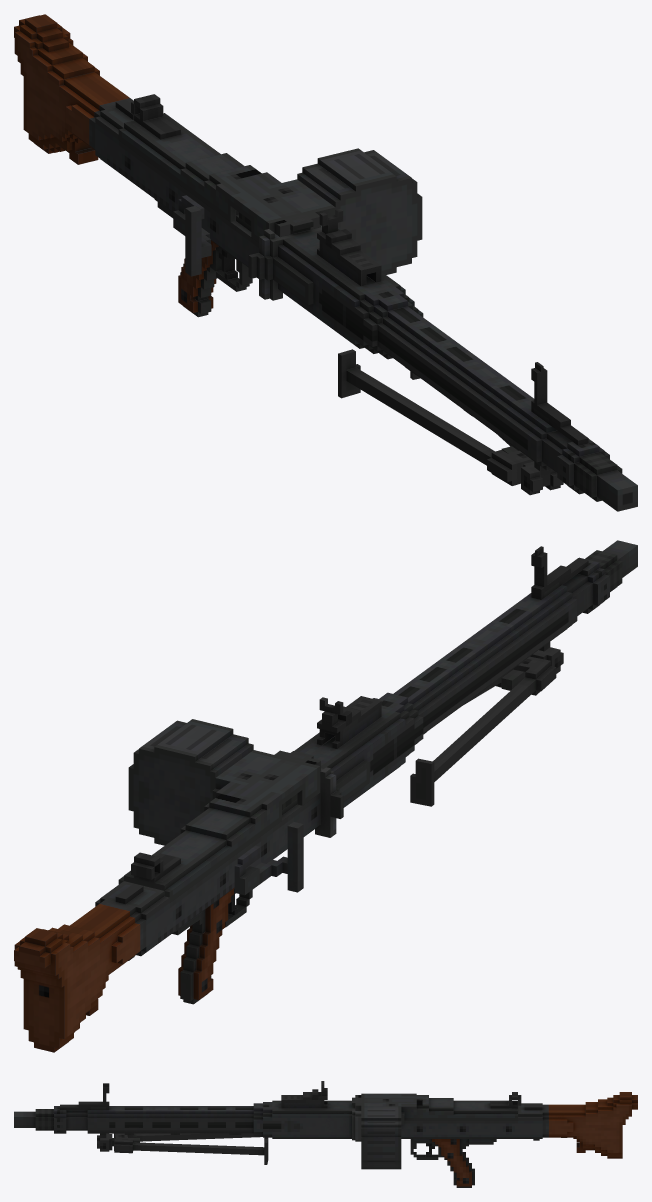
The model's file is RD_MG42_LADY.glb.
The picture shows the model from 3 angles, top to bottom: view 1: azimuth 30°, elevation 25°; view 2: azimuth 150°, elevation 25°; view 3: azimuth 270°, elevation 25°; orthographic projection. The views are drawn at different scales.
Parts seen in each view (by area): view 1: MG42, MG42_FRAME, MG42_CLIP, MG42_DIPOD_LEG1, MG42_BOLT_P1, MG42_DIPOD; view 2: MG42, MG42_FRAME, MG42_CLIP, MG42_DIPOD_LEG1, MG42_BOLT_P1, MG42_BOLT_P2, MG42_DIPOD; view 3: MG42, MG42_FRAME, MG42_CLIP, MG42_DIPOD_LEG2, MG42_DIPOD_LEG1, MG42_DIPOD.
Part boxes in pixels (x1,y1,x2,y2): MG42: (14, 14, 637, 511); MG42_FRAME: (118, 94, 335, 242); MG42_CLIP: (297, 148, 422, 274); MG42_DIPOD_LEG1: (338, 349, 533, 485); MG42_BOLT_P1: (185, 206, 211, 276); MG42_DIPOD: (501, 446, 563, 495); MG42: (14, 540, 637, 1052); MG42_FRAME: (118, 750, 320, 902); MG42_CLIP: (128, 719, 253, 845); MG42_DIPOD_LEG1: (410, 656, 556, 806); MG42_BOLT_P1: (255, 821, 303, 892); MG42_BOLT_P2: (234, 845, 260, 895); MG42_DIPOD: (501, 647, 563, 690); MG42: (14, 1081, 637, 1187); MG42_FRAME: (355, 1092, 521, 1124); MG42_CLIP: (361, 1106, 401, 1169); MG42_DIPOD_LEG2: (114, 1139, 268, 1164); MG42_DIPOD_LEG1: (114, 1133, 268, 1145); MG42_DIPOD: (97, 1133, 139, 1151).
Bounding box in the file's own units: 0.3543 × 0.3642 × 2.
Materials: 1 (1 with a texture image).
